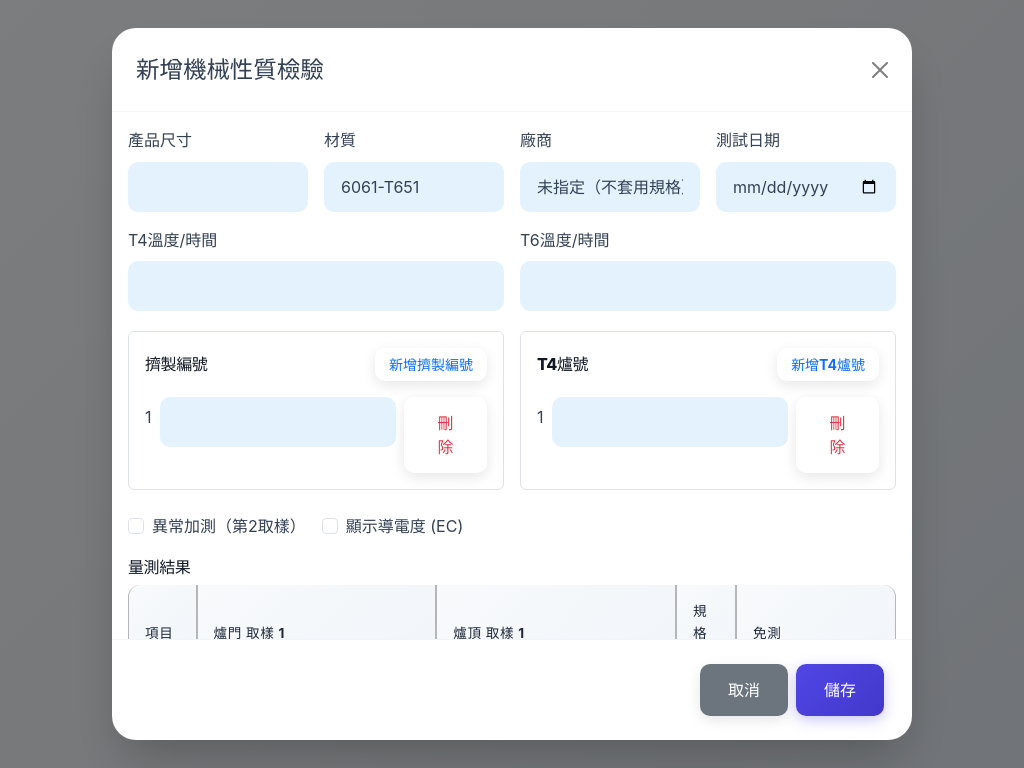
Test: MechanicalTestForm › 同一清單重複時顯示錯誤且禁止儲存
This screenshot has width=1024, height=768.
In the field labelled "產品尺寸": (218, 187) [128, 162, 308, 212], type "36x25.2"
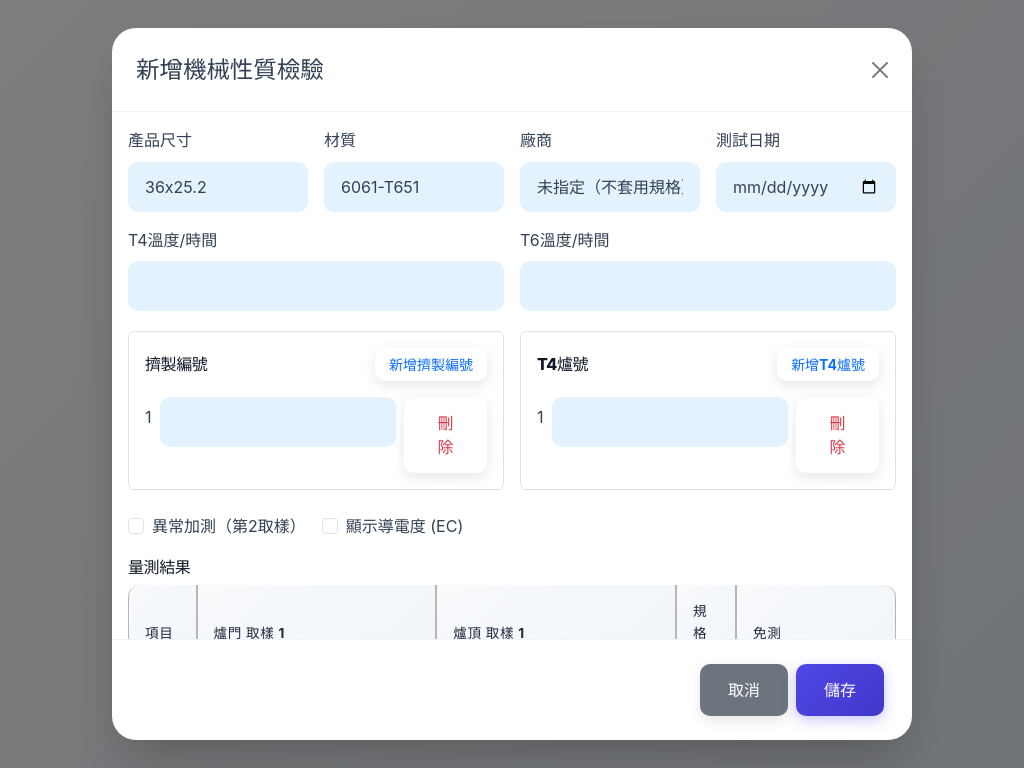
Click the button "新增擠製編號": (431, 365) [375, 348, 487, 381]
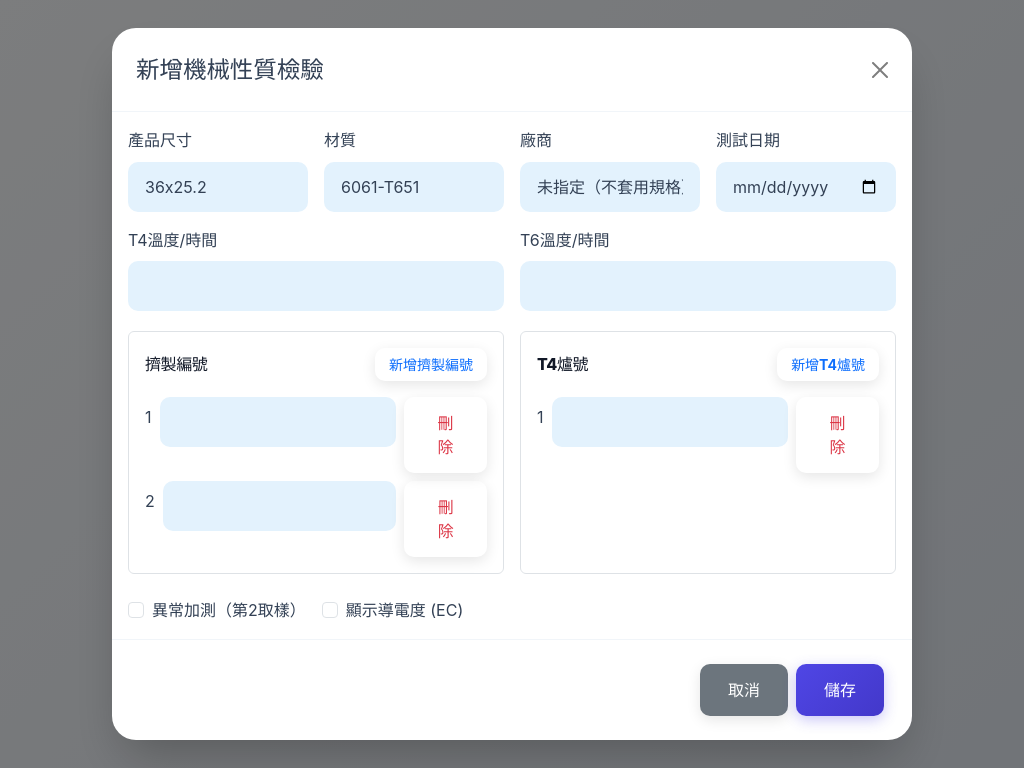
In the 1st field named "擠製編號 1": (278, 422) [160, 397, 396, 447], type "E001"
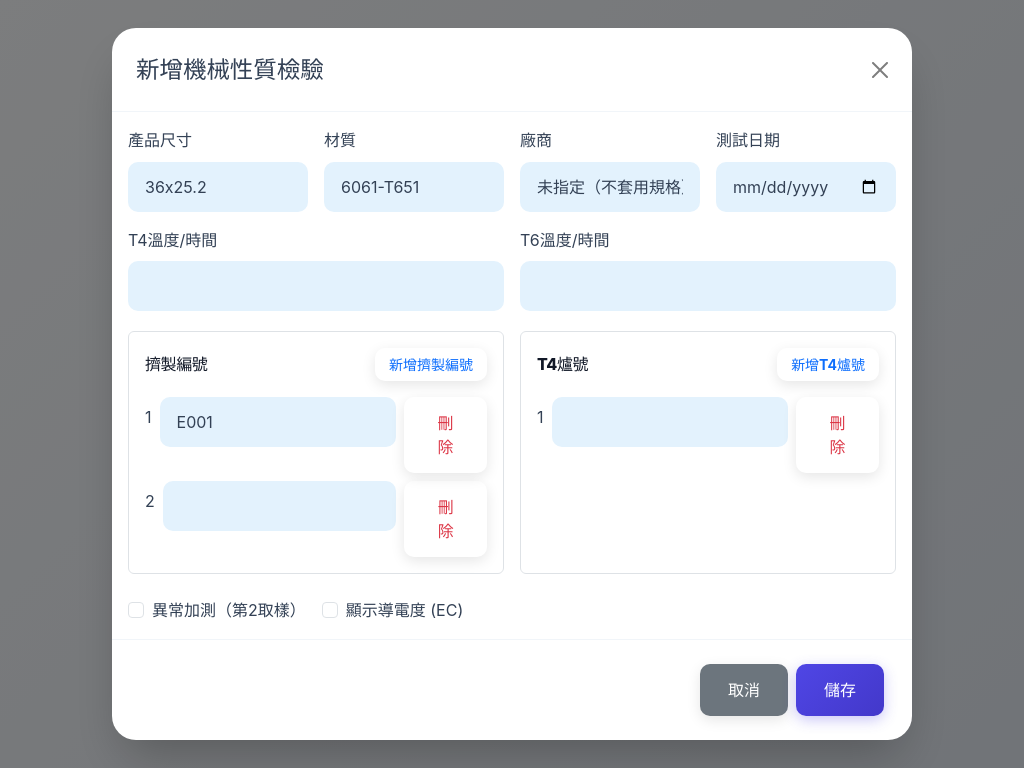
In the 3rd field named "擠製編號 2": (280, 506) [163, 481, 396, 531], type " E001 "
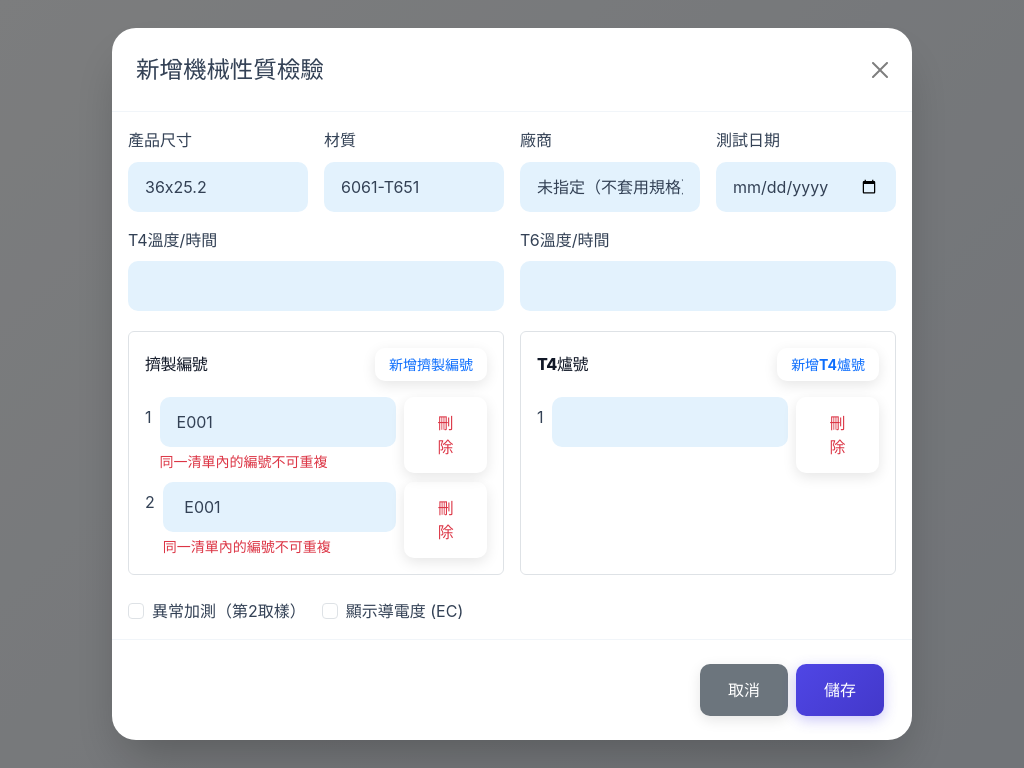
Click the button "儲存": (840, 690) [796, 664, 884, 716]
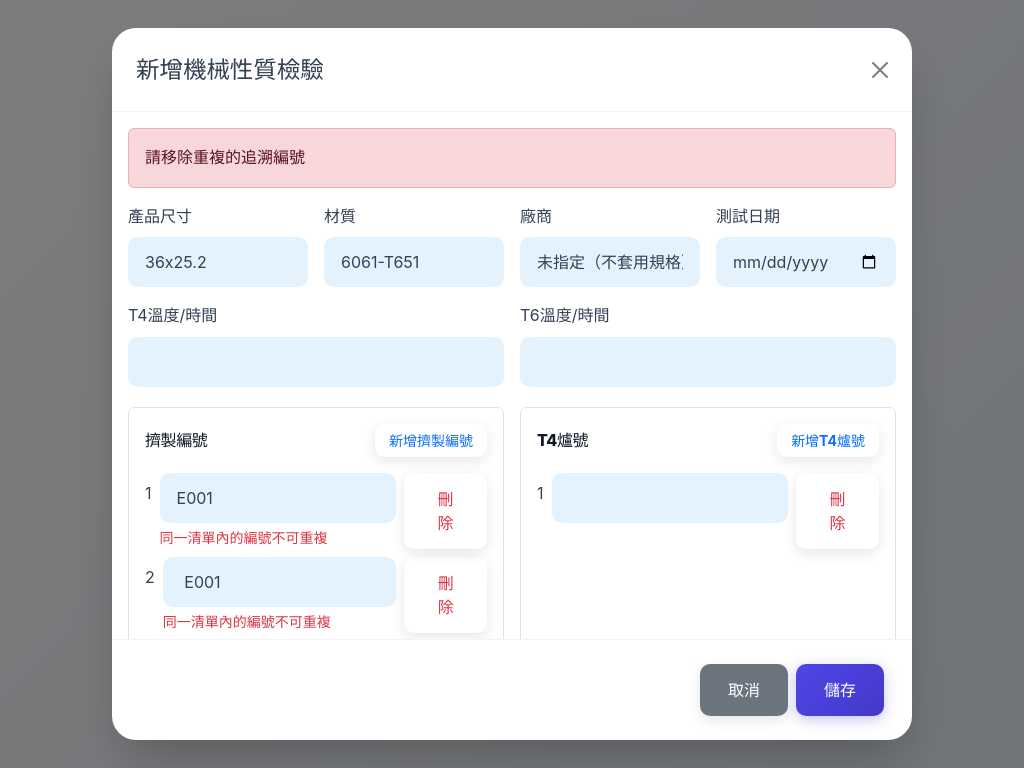
Check: the text "請移除重複的追溯編號" is shown, box [128, 128, 896, 188]
